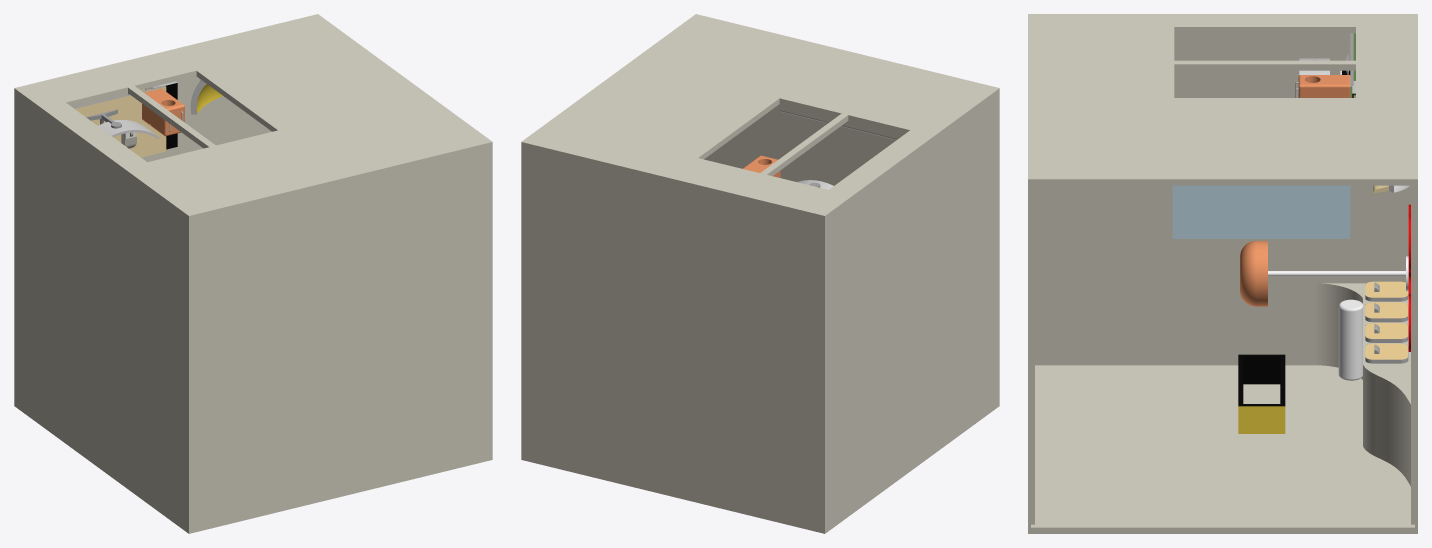
The model's file is PlayHouseAssembly.gltf.
The picture shows the model from 3 angles, left to right: view 1: azimuth 30°, elevation 25°; view 2: azimuth 150°, elevation 25°; view 3: azimuth 270°, elevation 25°; orthographic projection. The views are drawn at different scales.
Parts seen in each view (by area): view 1: Part 1 (×8); view 2: Part 1 (×4); view 3: Part 1 (×10).
Boxes of the visible parts, x1=… form: Part 1 (×8): x1=14, y1=14, x2=492, y2=533; Part 1 (×4): x1=521, y1=14, x2=999, y2=533; Part 1 (×10): x1=1028, y1=14, x2=1417, y2=533.
Bounding box in the file's own units: 0.14 × 0.14 × 0.1395.
